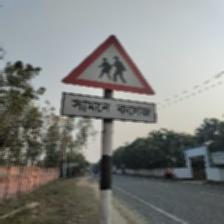College-in-front: (66, 50, 141, 121)
